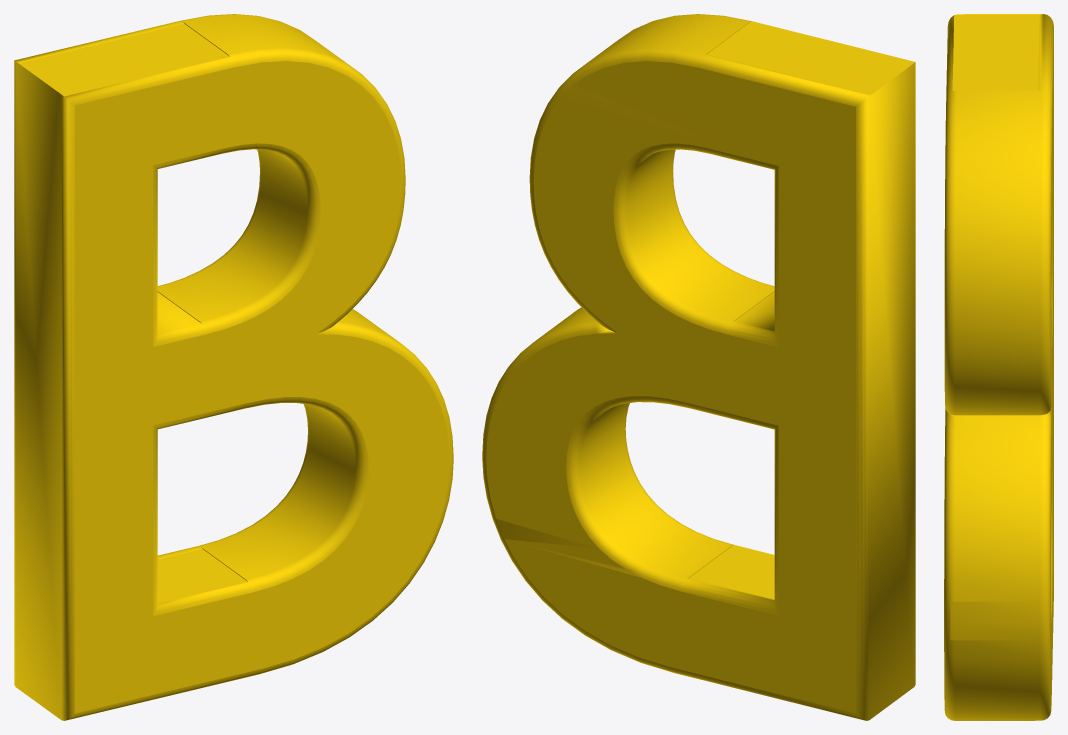
3 renders of one model, left to right at view 1: azimuth 30°, elevation 25°; view 2: azimuth 150°, elevation 25°; view 3: azimuth 270°, elevation 25°, orthographic. The views are drawn at different scales.
Parts seen in each view (by area): view 1: BB; view 2: BB; view 3: BB.
Part boxes in pixels (bbox=[...]): BB: bbox=[14, 14, 453, 720]; BB: bbox=[482, 14, 915, 720]; BB: bbox=[944, 14, 1053, 720].
Bounding box in the file's own units: 0.3254 × 0.5 × 0.0842.
